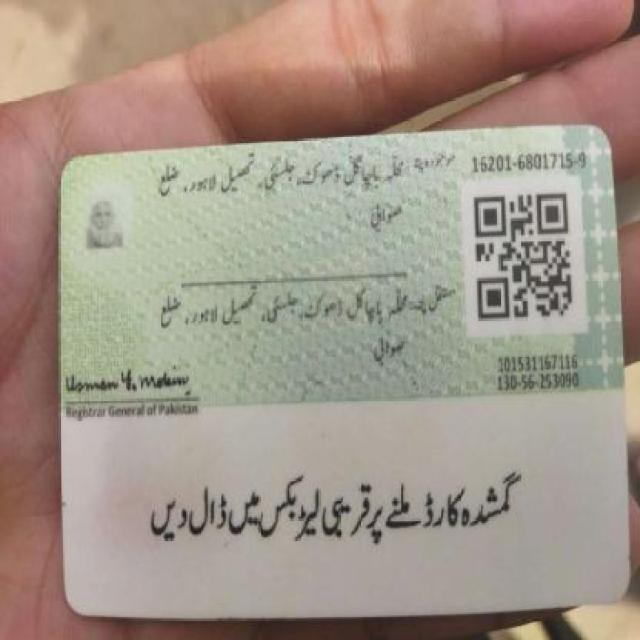Back: (46, 129, 629, 622)
